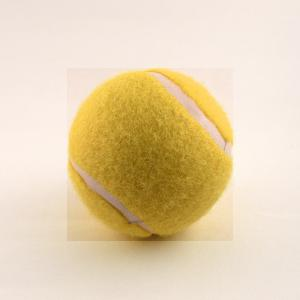TennisBall: (68, 69, 235, 243)
